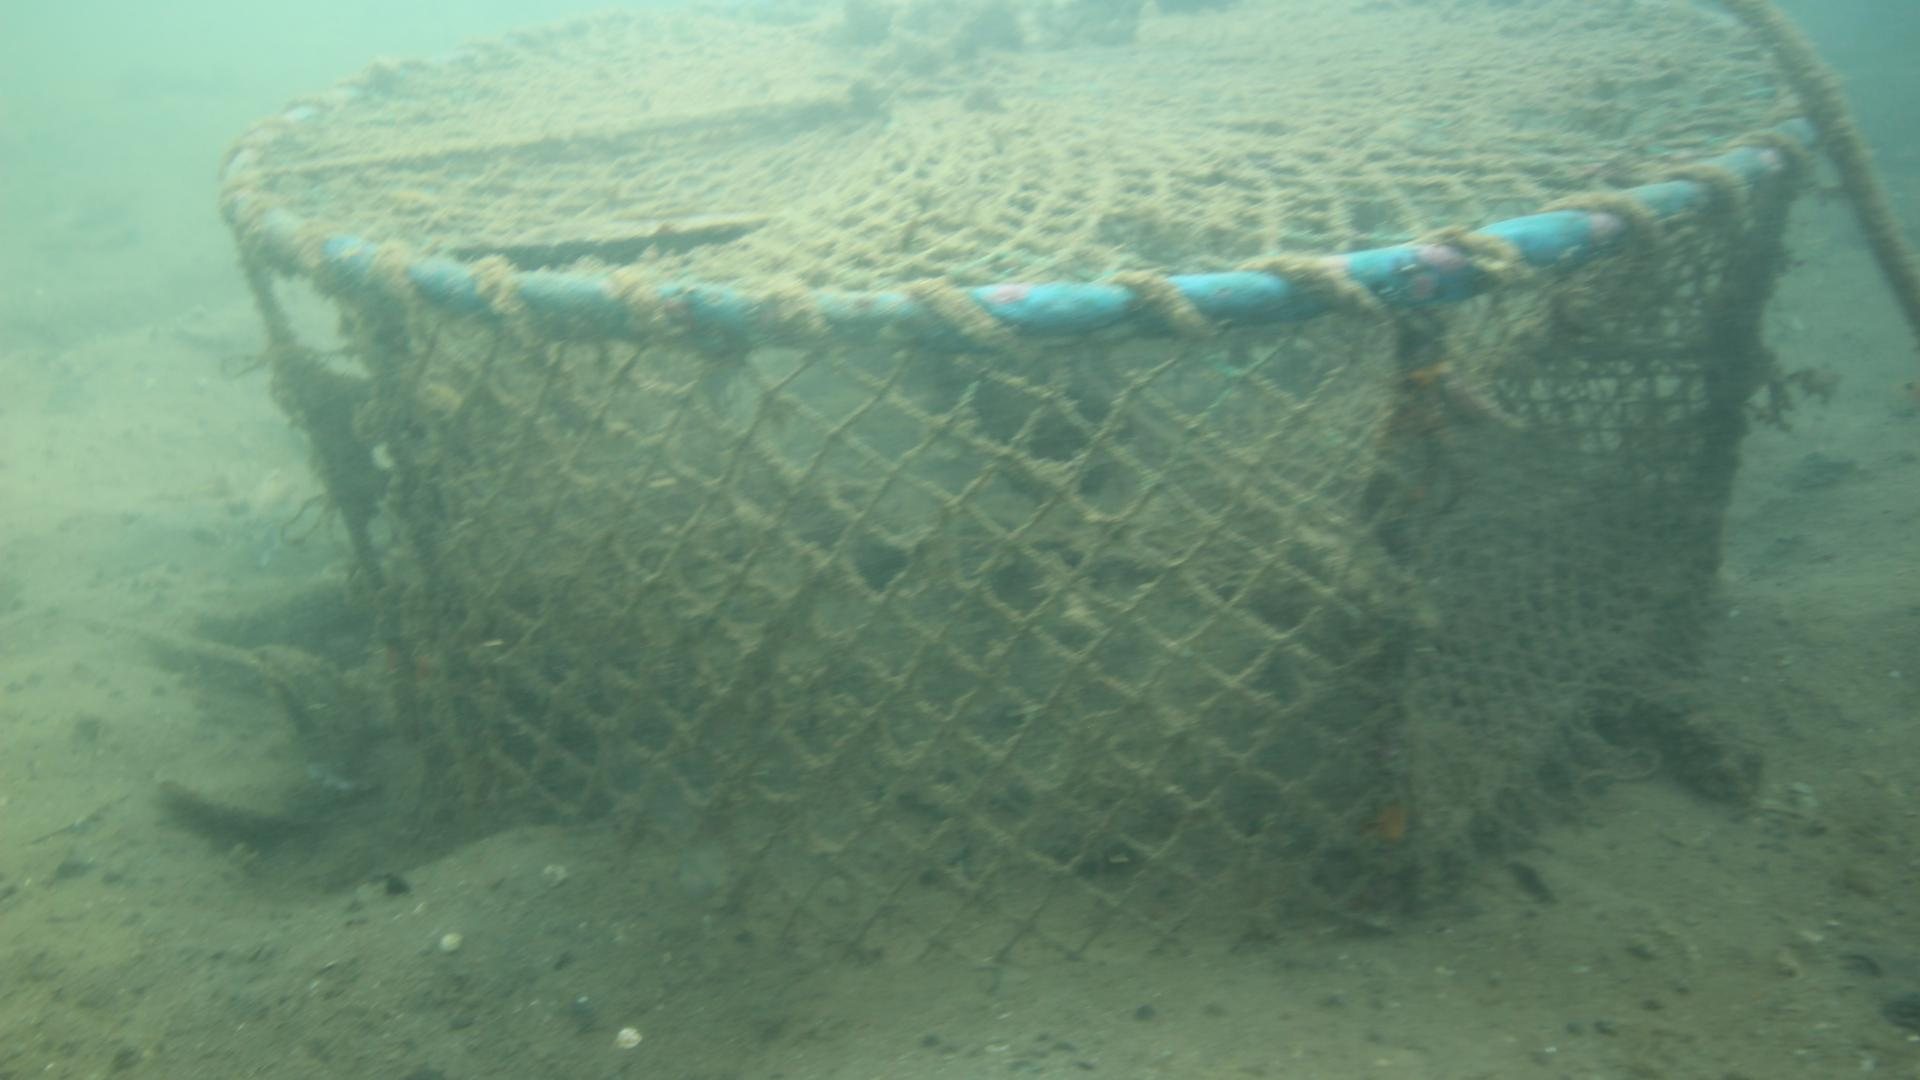circular fish trap: (216, 0, 1821, 967)
